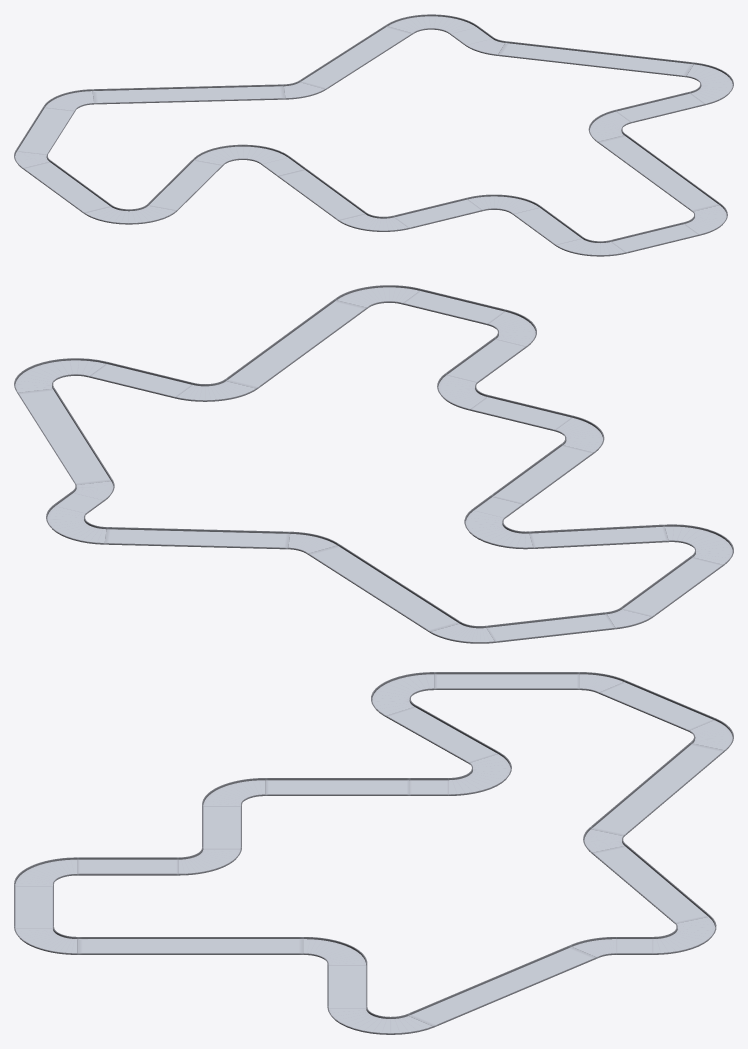
File: TrackMesh.fbx
The picture shows the model from 3 angles, top to bottom: view 1: azimuth 30°, elevation 25°; view 2: azimuth 150°, elevation 25°; view 3: azimuth 270°, elevation 25°; orthographic projection. The views are drawn at different scales.
Visible parts, largest first — view 1: TrackMesh; view 2: TrackMesh; view 3: TrackMesh.
Part boxes in pixels (x1,y1,x2,y2): TrackMesh: (14,14,733,256); TrackMesh: (14,285,733,643); TrackMesh: (14,672,733,1034).
Size of the model in its own units: 68301 by 150 by 57446.
Materials: 1 (1 with a texture image).
